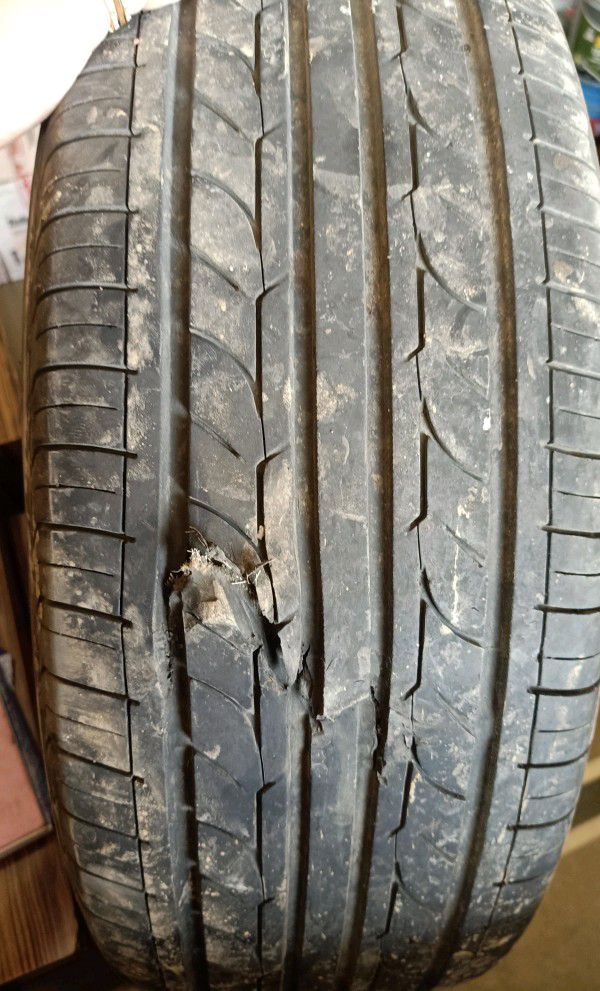tr: (156, 511, 325, 725)
